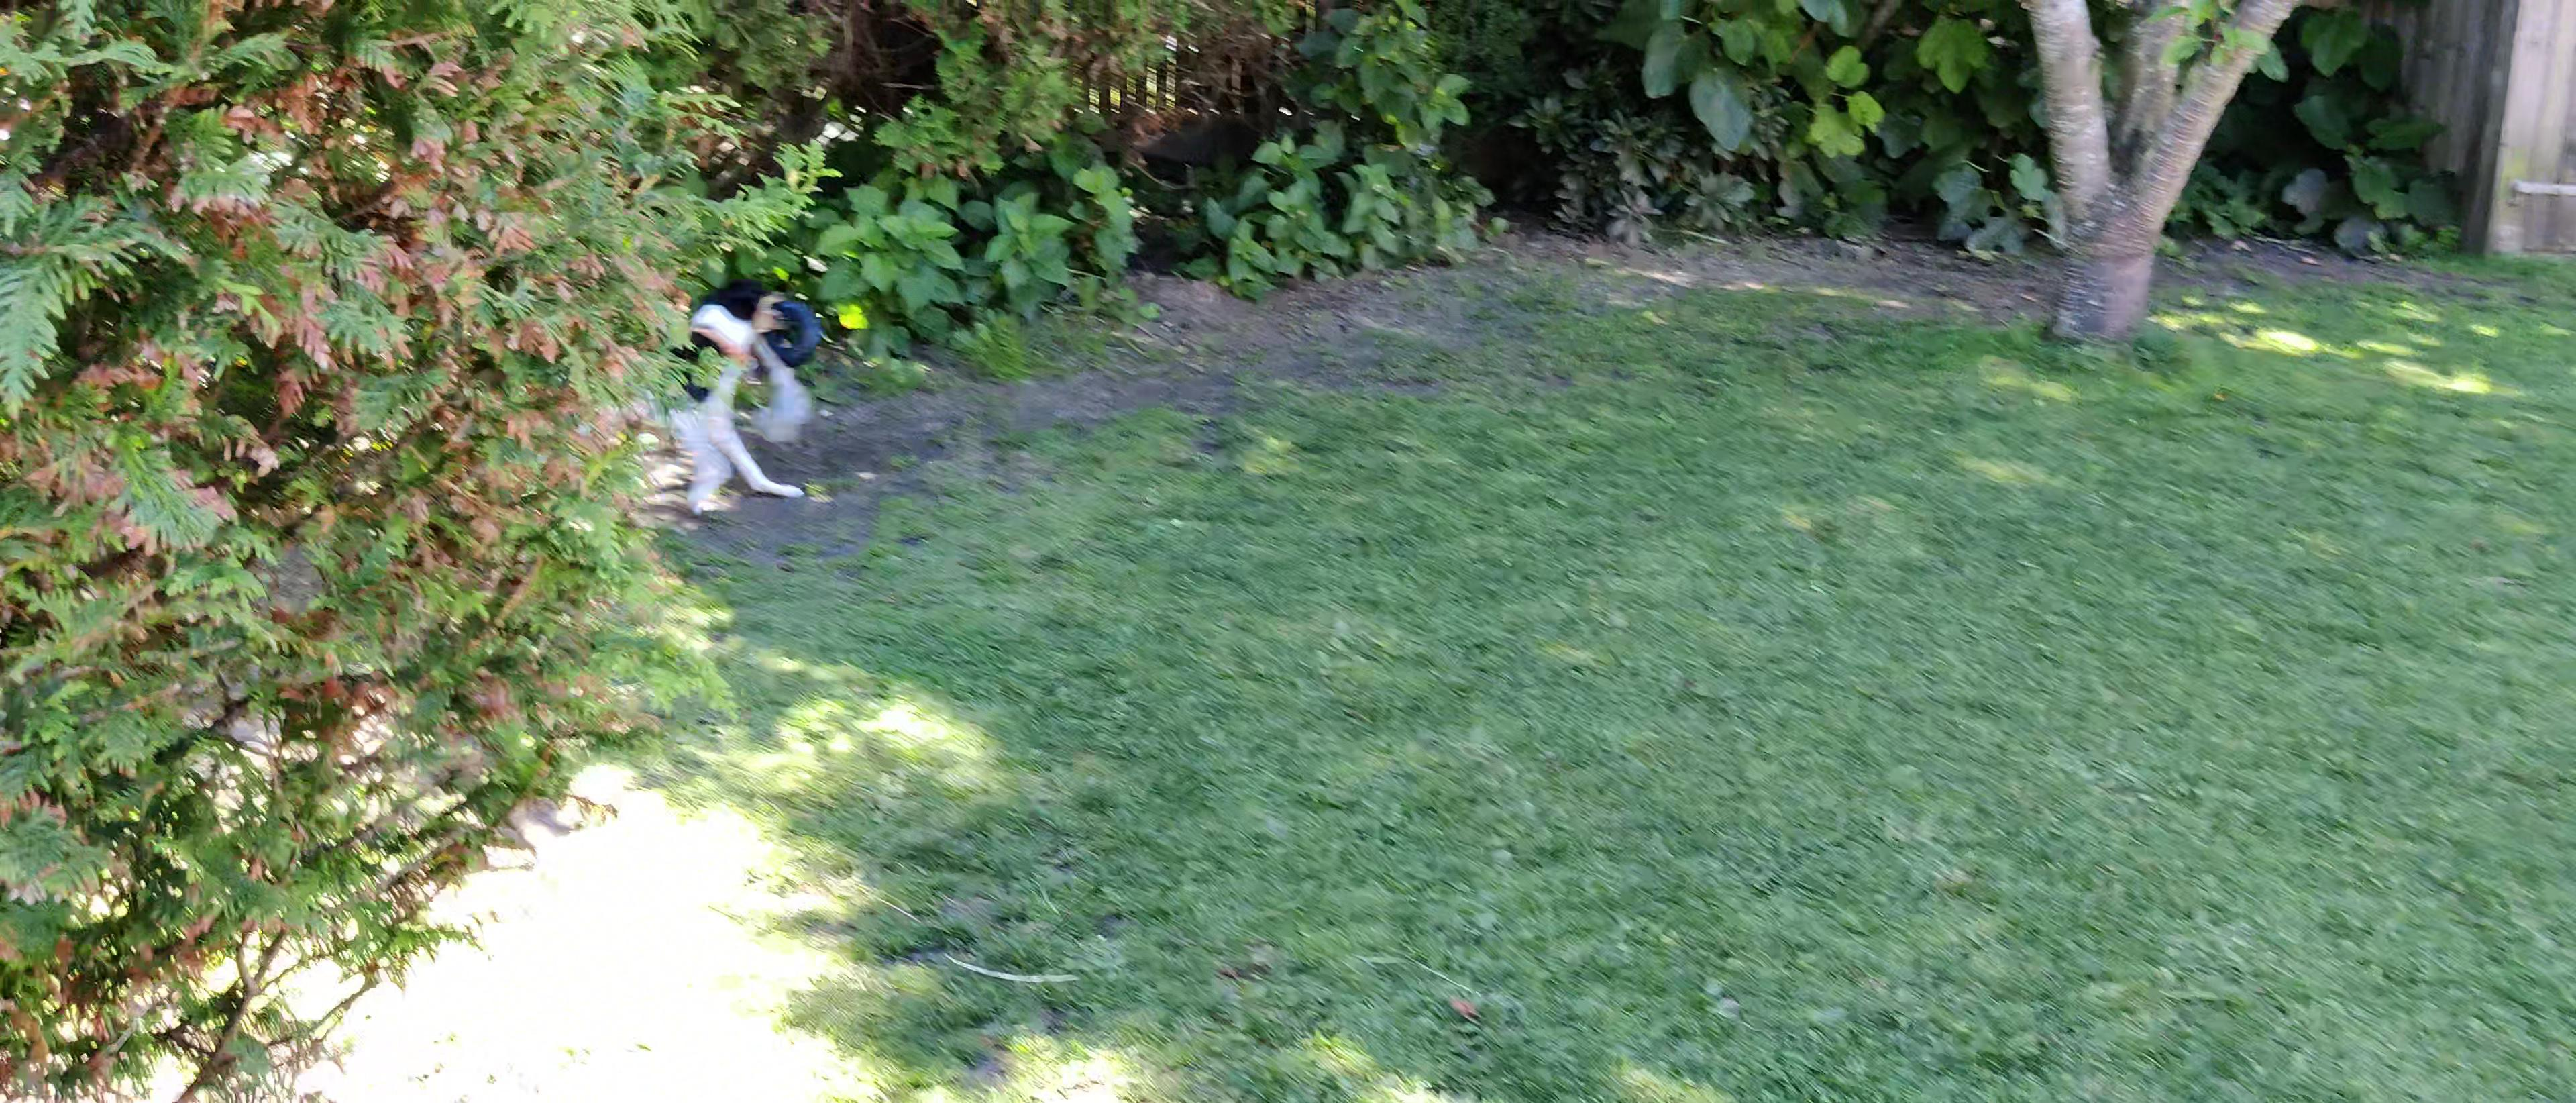Dog: (601, 275, 816, 534)
